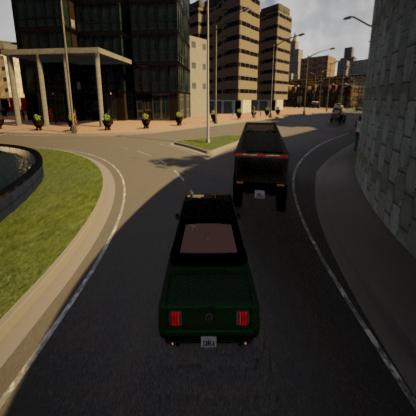Cars: (148, 171, 266, 378), (218, 107, 304, 211), (324, 93, 352, 144)
